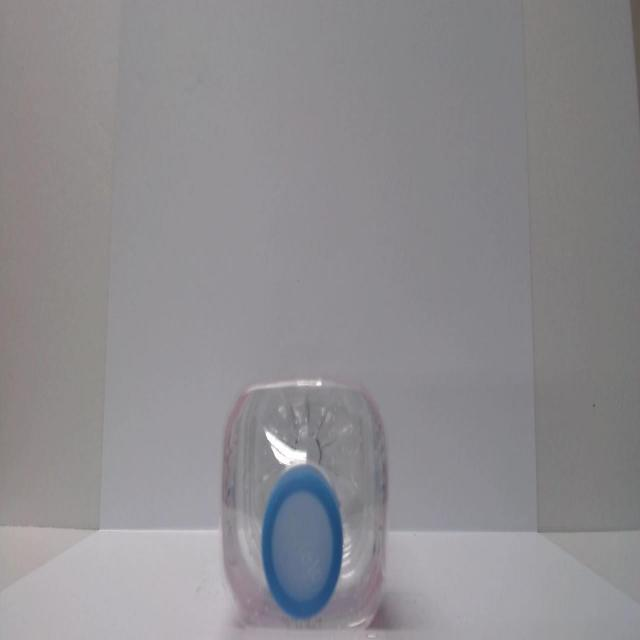bottle: (204, 366, 413, 638)
